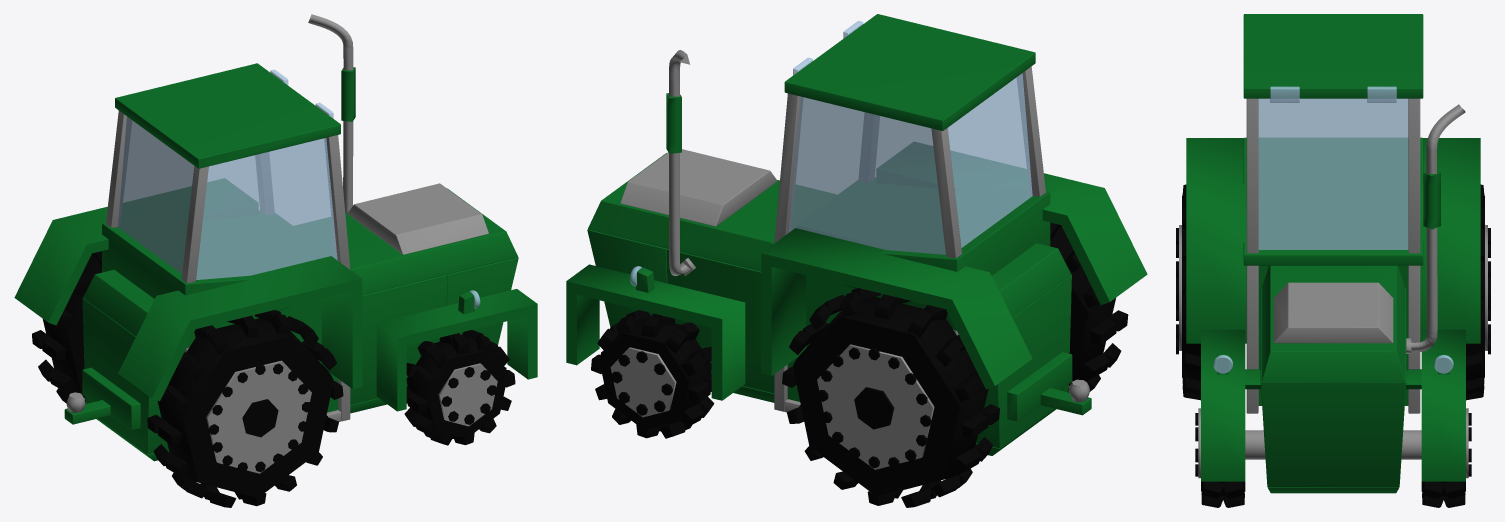
Rendered from Tractors.glb.
3 views of the same model, side by side, from view 1: azimuth 30°, elevation 25°; view 2: azimuth 150°, elevation 25°; view 3: azimuth 270°, elevation 25° (orthographic). The views are drawn at different scales.
Visible parts, largest first — view 1: Root; view 2: Root; view 3: Root.
Part boxes in pixels (left/top/right/bottom): Root: left=14, top=14, right=537, bottom=507; Root: left=566, top=14, right=1147, bottom=507; Root: left=1176, top=14, right=1490, bottom=507.
Bounding box in the file's own units: 4.38 × 3.58 × 2.68.
